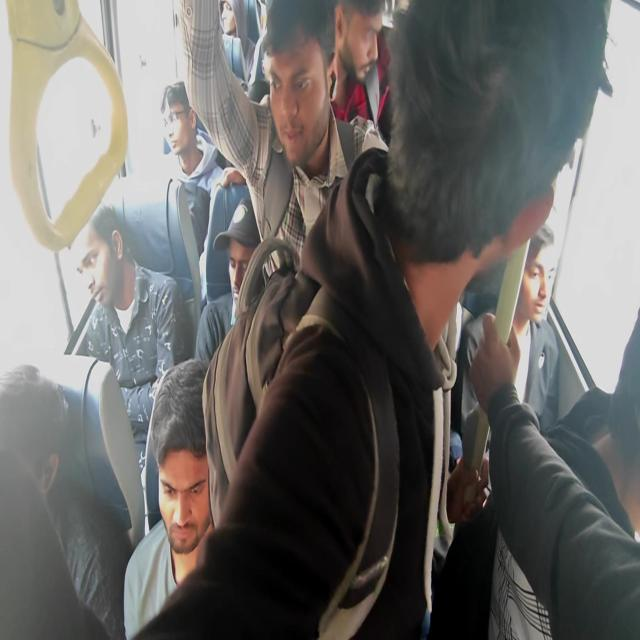person: (399, 26, 551, 245), (144, 380, 218, 550), (0, 392, 57, 534), (595, 368, 640, 534), (65, 208, 119, 340), (268, 24, 322, 144), (520, 251, 570, 341), (341, 15, 383, 87), (233, 209, 259, 307), (160, 96, 195, 154), (220, 6, 244, 50)
